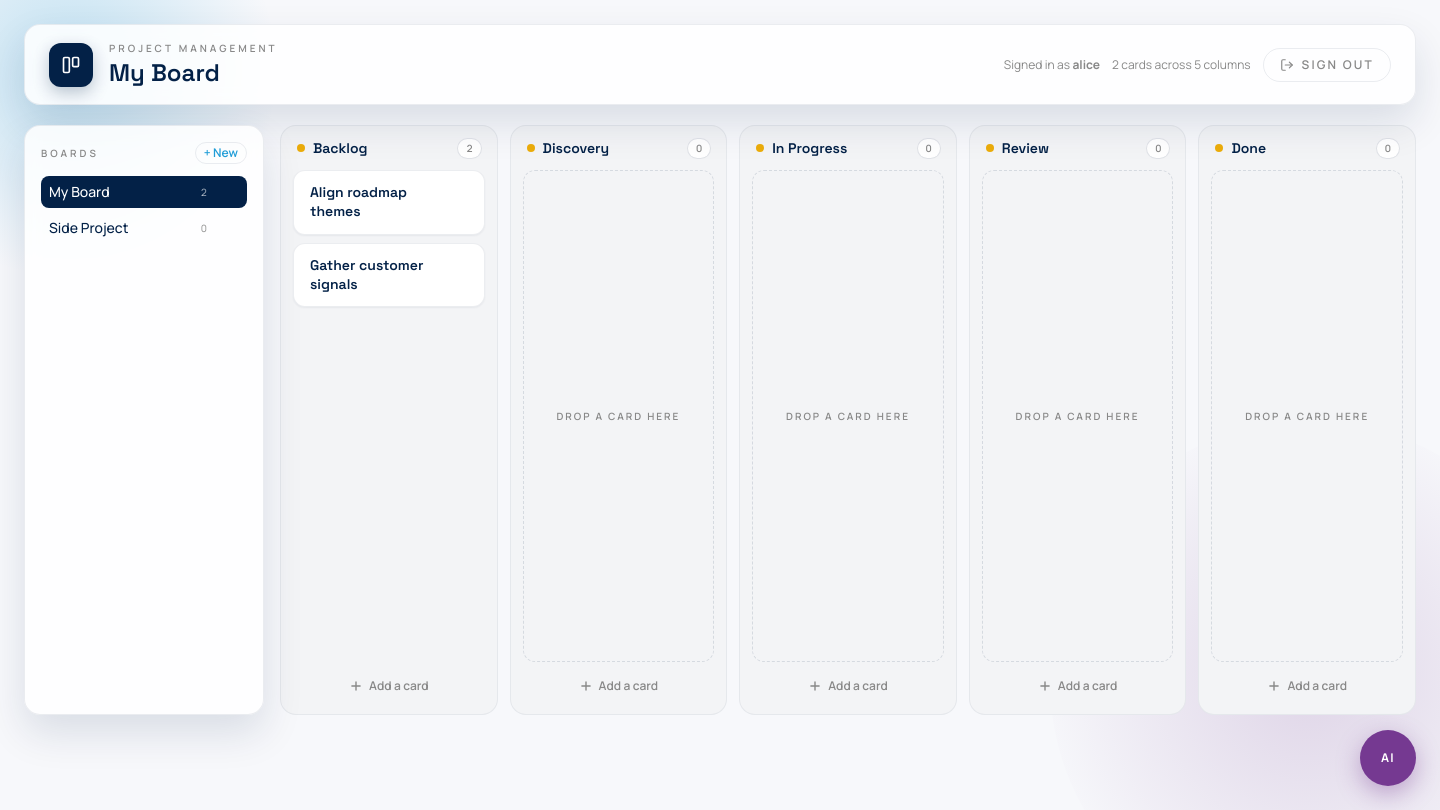
Test: KanbanBoard › adds a card and it appears in the column
Click the 1st button "Add a card" at (389, 686), box [293, 670, 485, 702]
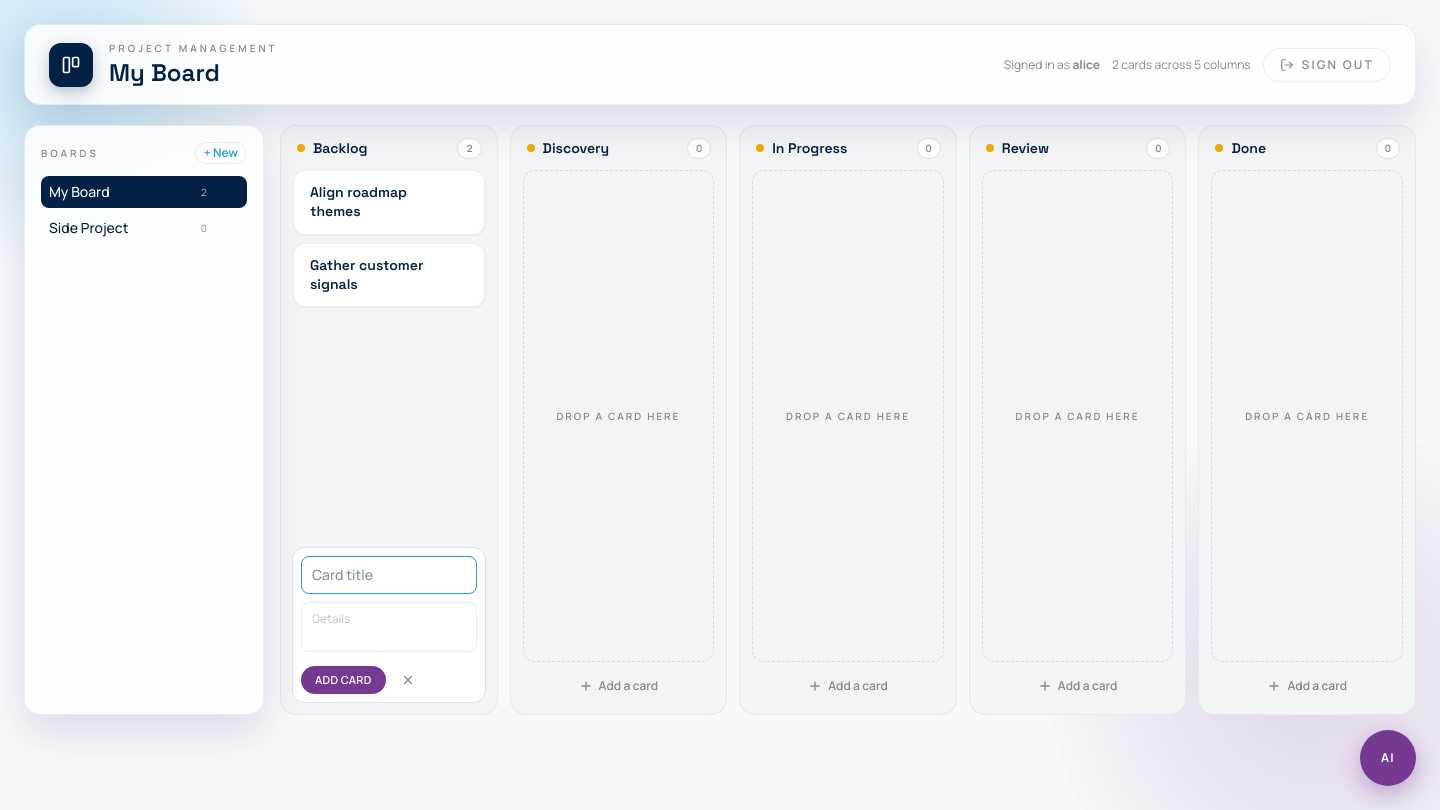
Type "New card" into the field with placeholder "Card title" at (389, 574), box [301, 556, 477, 594]
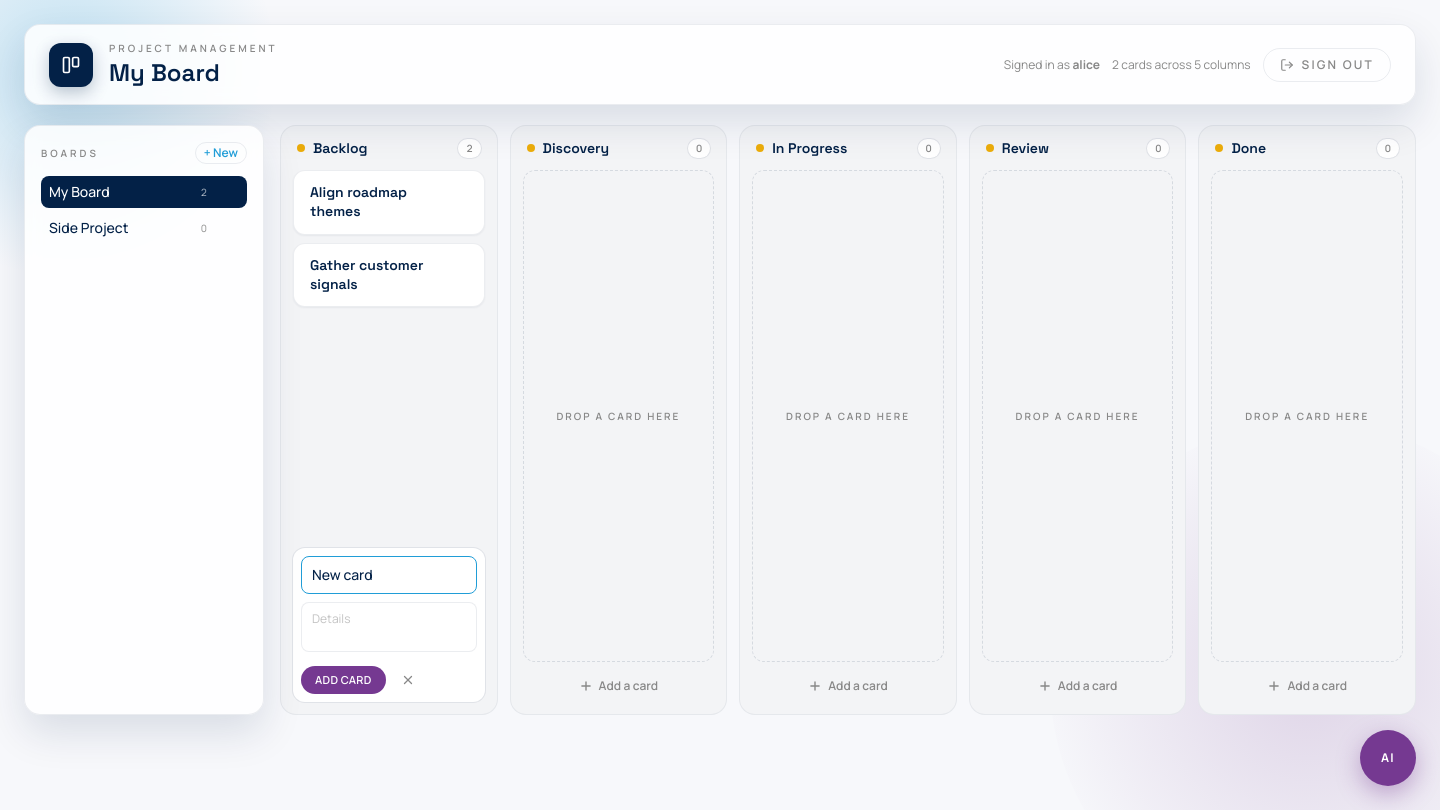
Type "Notes" into the text box with placeholder "Details" at (389, 626), box [301, 602, 477, 652]
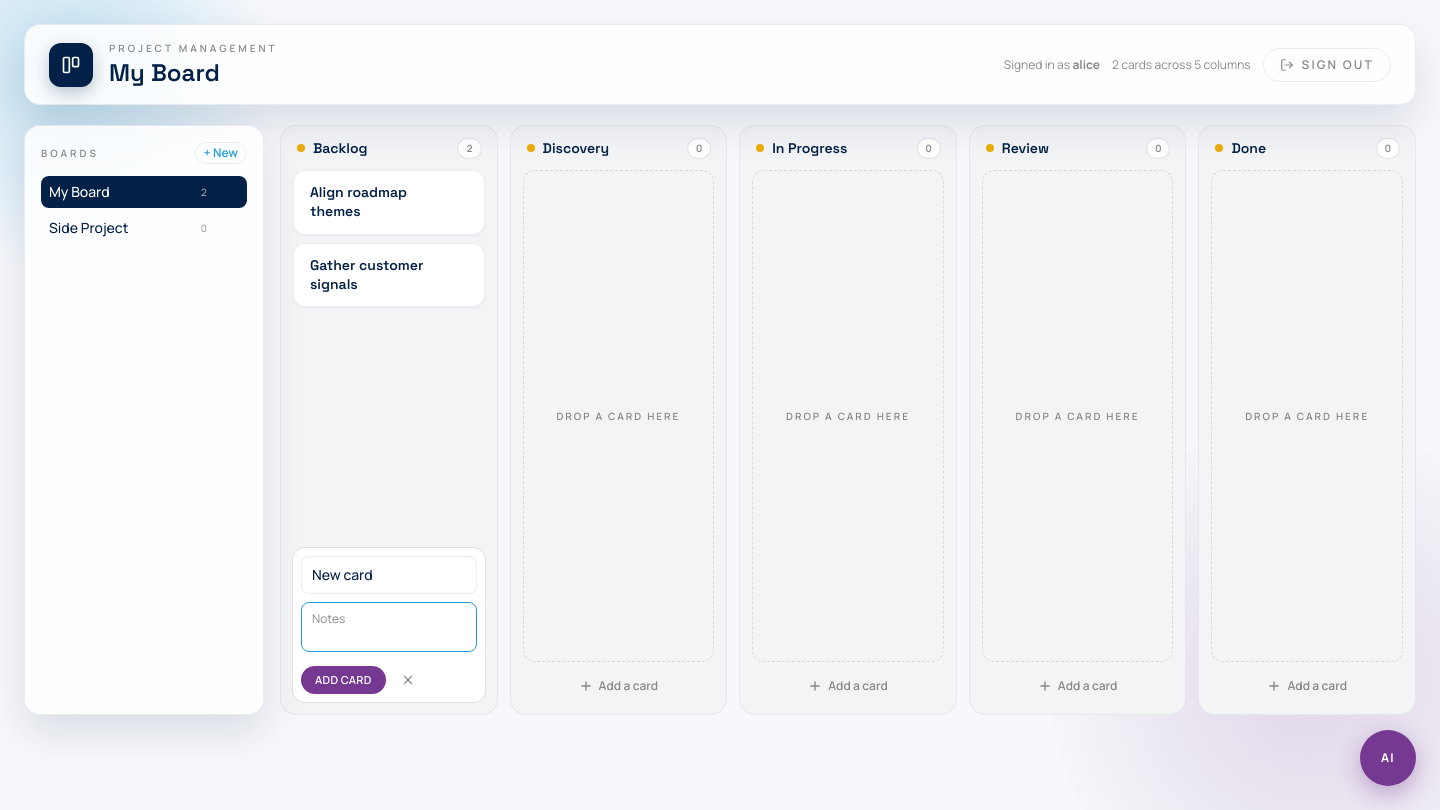
Click the button "Add card" at (343, 680), box [301, 666, 386, 694]
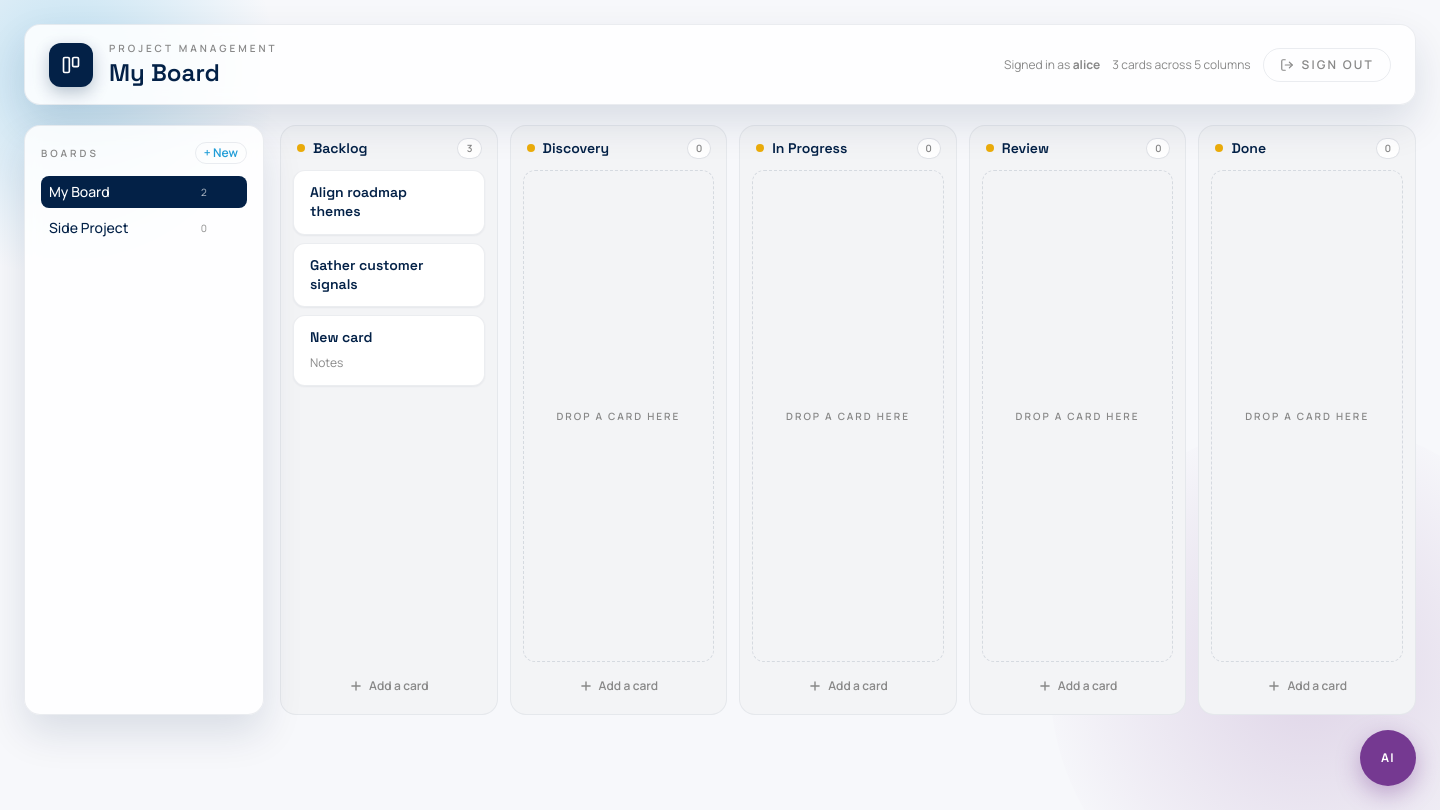
Result: the heading "New card" is shown at [310, 328, 372, 346]
